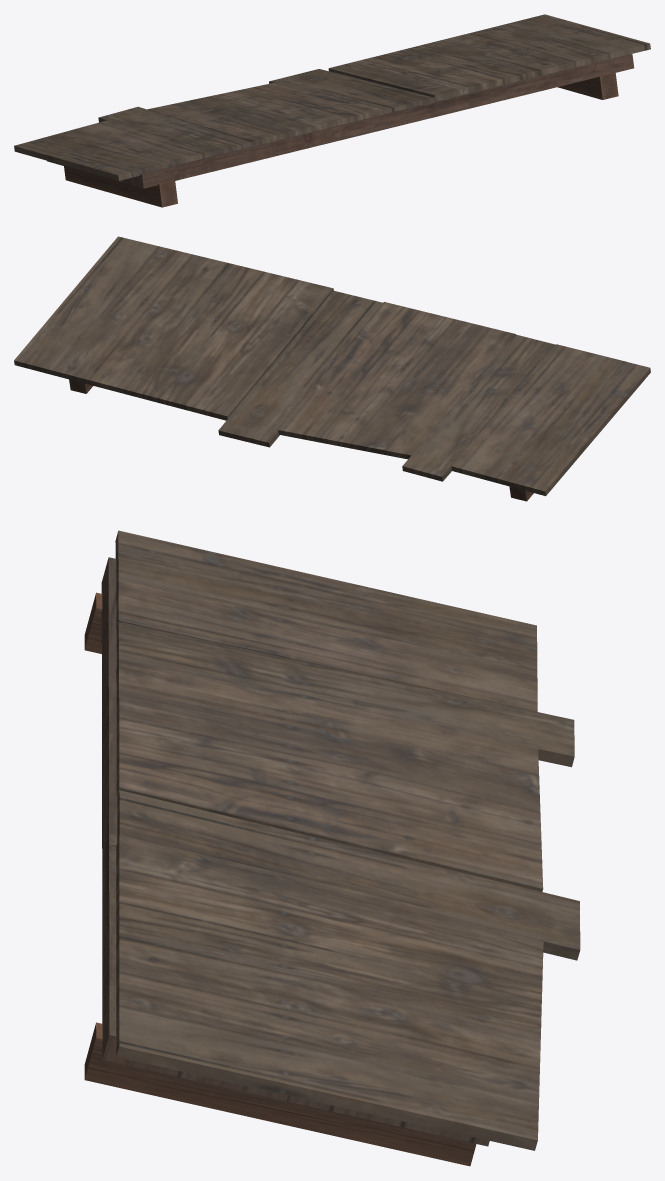
File: jovhouse_sunshade03bd.fbx
3 views of the same model, one above another, from view 1: azimuth 30°, elevation 25°; view 2: azimuth 150°, elevation 25°; view 3: azimuth 270°, elevation 25° (orthographic). The views are drawn at different scales.
Parts seen in each view (by area): view 1: jovhouse_sunshade03bd; view 2: jovhouse_sunshade03bd; view 3: jovhouse_sunshade03bd.
Part boxes in pixels (box(x1,y1,x2,y2)): jovhouse_sunshade03bd: box(14, 14, 650, 207); jovhouse_sunshade03bd: box(14, 236, 650, 501); jovhouse_sunshade03bd: box(84, 530, 580, 1166).
Size of the model in its own units: 276 by 39.82 by 111.
